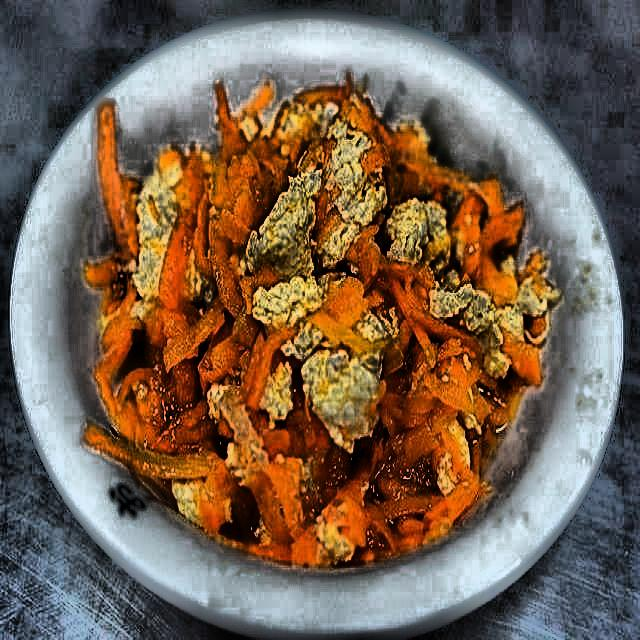Food: (94, 80, 541, 544)
